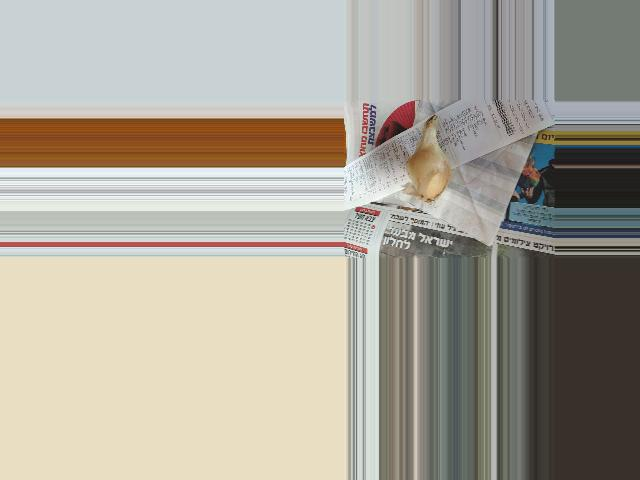onion: (409, 138, 452, 198)
